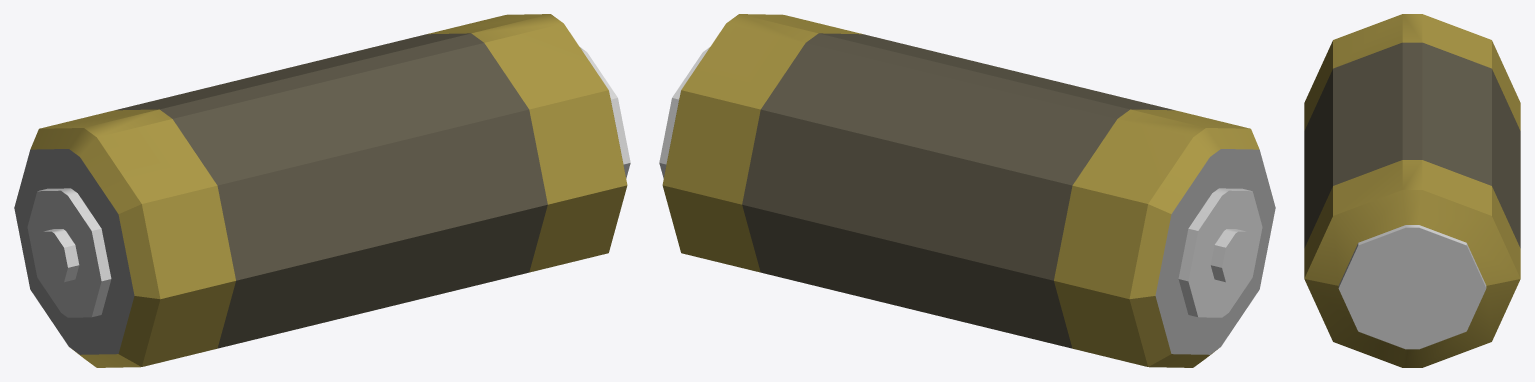
File: Battery.fbx
3 views of the same model, side by side, from view 1: azimuth 30°, elevation 25°; view 2: azimuth 150°, elevation 25°; view 3: azimuth 270°, elevation 25° (orthographic). The views are drawn at different scales.
Visible parts, largest first — view 1: pCube7; view 2: pCube7; view 3: pCube7.
Boxes of the visible parts, x1=… form: pCube7: x1=14, y1=14, x2=630, y2=367; pCube7: x1=659, y1=14, x2=1275, y2=367; pCube7: x1=1304, y1=14, x2=1520, y2=367.
Bounding box in the file's own units: 25.99 × 10.81 × 11.91.
